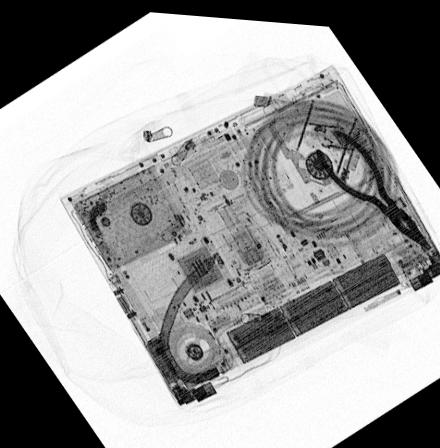Pliers: (312, 119, 433, 244)
